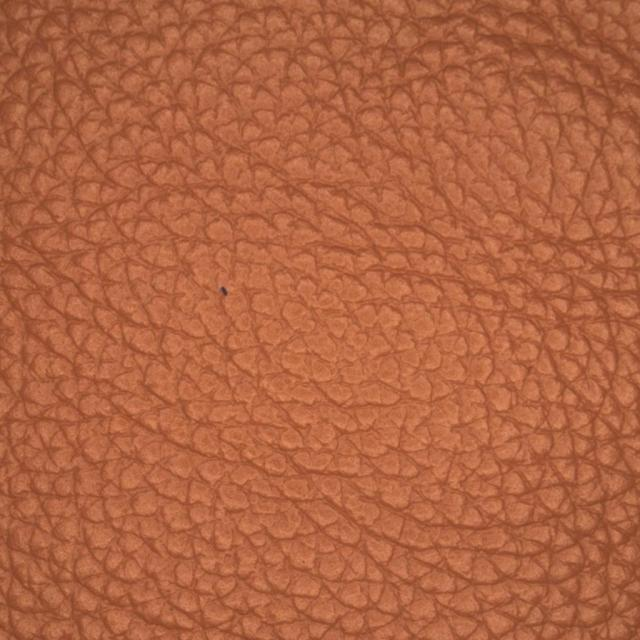pinhole: (150, 215, 315, 373)
